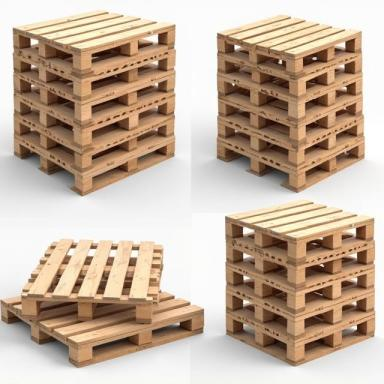pallet: (0, 289, 204, 368), (21, 238, 164, 324), (12, 9, 175, 78), (225, 199, 375, 266), (13, 116, 175, 175), (14, 137, 175, 196), (217, 14, 362, 79), (13, 96, 175, 154), (13, 49, 176, 105), (13, 72, 175, 128), (226, 288, 375, 343), (225, 313, 375, 367), (216, 139, 365, 193), (226, 265, 375, 318), (217, 119, 365, 172), (217, 97, 364, 149), (226, 241, 375, 292), (217, 75, 363, 126), (217, 54, 362, 102), (92, 121, 120, 139), (92, 46, 121, 63), (259, 95, 288, 111), (92, 144, 120, 160), (305, 338, 325, 360), (266, 119, 290, 135), (46, 142, 75, 155), (47, 119, 73, 132), (137, 128, 158, 142), (226, 64, 252, 75), (267, 75, 289, 88), (306, 76, 318, 99), (336, 107, 348, 130), (55, 49, 73, 64), (269, 287, 287, 302), (139, 106, 158, 120), (226, 107, 250, 118), (304, 142, 321, 157), (336, 86, 347, 108), (307, 238, 323, 251), (238, 323, 255, 335), (272, 237, 287, 250), (272, 264, 287, 277), (342, 325, 357, 338), (235, 85, 251, 97), (273, 313, 287, 326), (306, 98, 319, 110), (306, 120, 319, 132), (274, 338, 287, 350), (243, 300, 255, 312)
